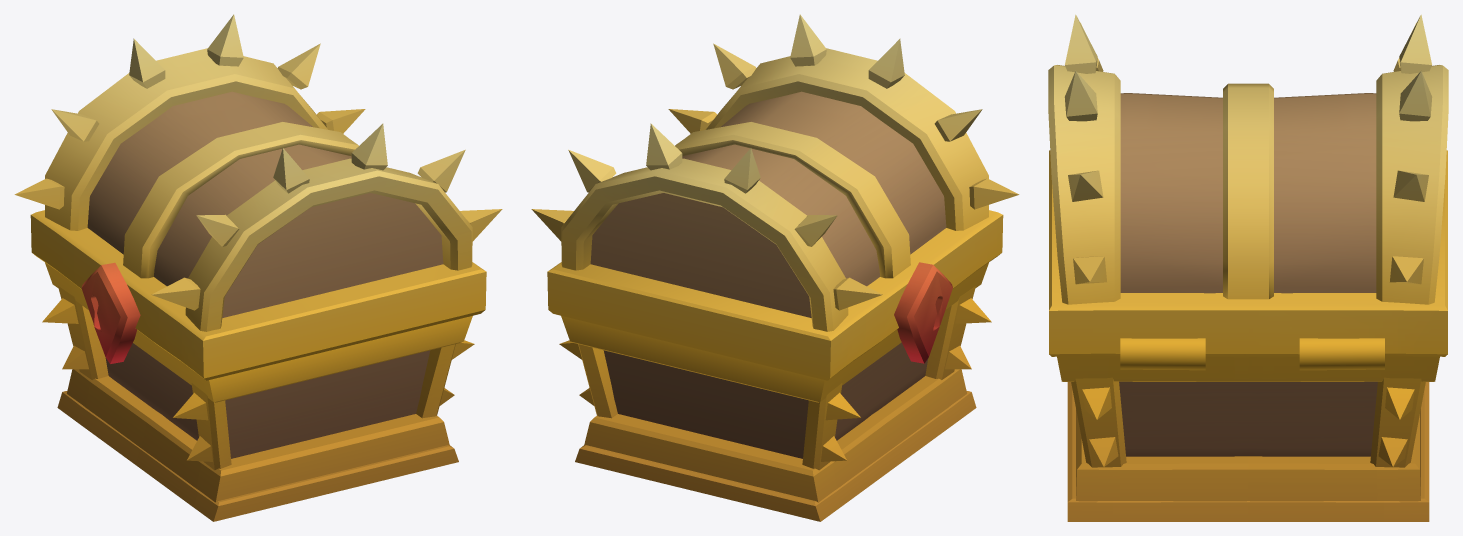
File: dungeonkit_decor_chest.fbx
The picture shows the model from 3 angles, left to right: view 1: azimuth 30°, elevation 25°; view 2: azimuth 150°, elevation 25°; view 3: azimuth 270°, elevation 25°; orthographic projection. The views are drawn at different scales.
Parts seen in each view (by area): view 1: Cylinder.035; view 2: Cylinder.035; view 3: Cylinder.035.
Part boxes in pixels (x1,y1,x2,y2): Cylinder.035: (14, 14, 502, 521); Cylinder.035: (531, 14, 1019, 521); Cylinder.035: (1048, 14, 1448, 521).
Bounding box in the file's own units: 219 × 212 × 187.
